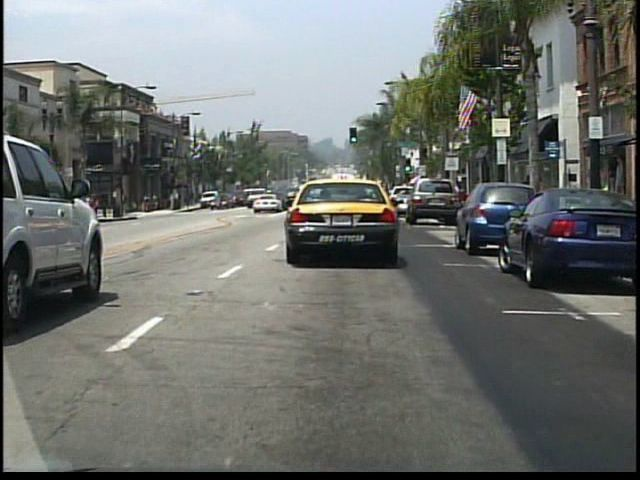person: (219, 187, 229, 211)
